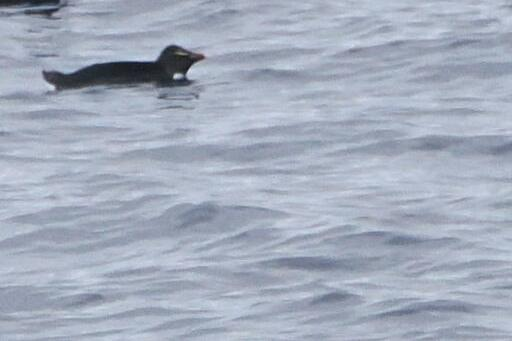Southern Rockhopper Penguin: (21, 35, 222, 100), (0, 0, 93, 20)
